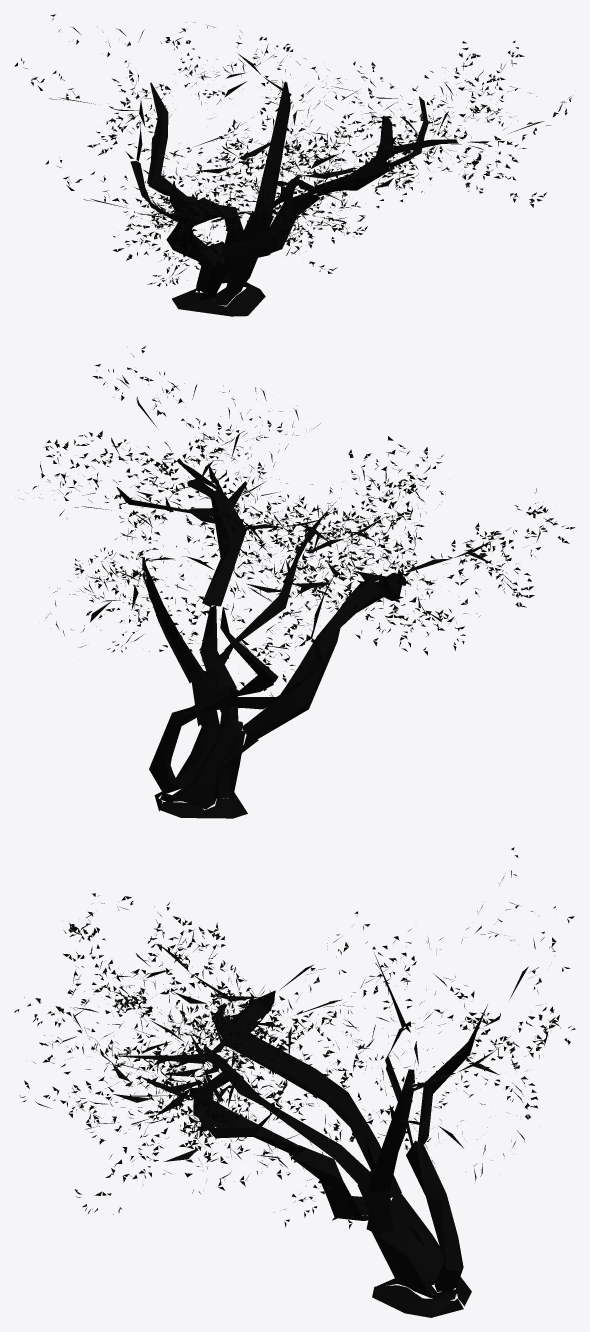
Rendered from Broad_Round_C.glb.
3 views of the same model, one above another, from view 1: azimuth 30°, elevation 25°; view 2: azimuth 150°, elevation 25°; view 3: azimuth 270°, elevation 25° (orthographic). The views are drawn at different scales.
Visible parts, largest first — view 1: tree; view 2: tree; view 3: tree.
Part boxes in pixels (x1,y1,x2,y2): tree: (14,14,571,316); tree: (18,346,575,818); tree: (14,847,575,1317).
Bounding box in the file's own units: 4.33 × 2.87 × 3.99.
1 material, 1 textured.
